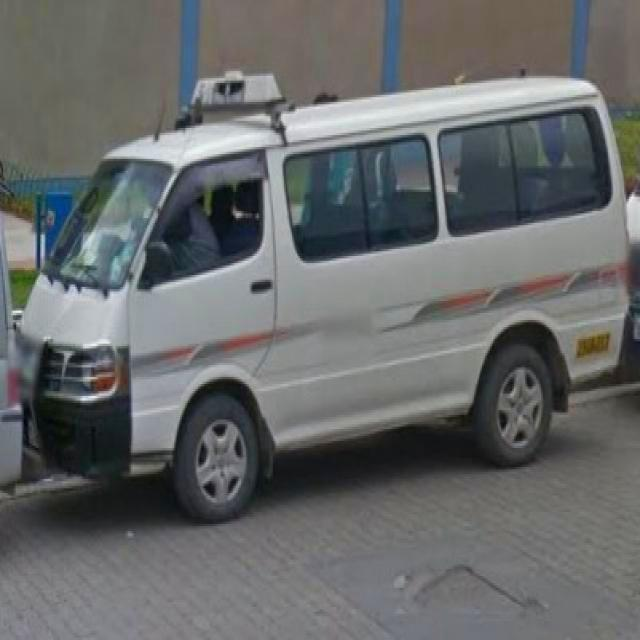Car: (30, 74, 623, 516)
